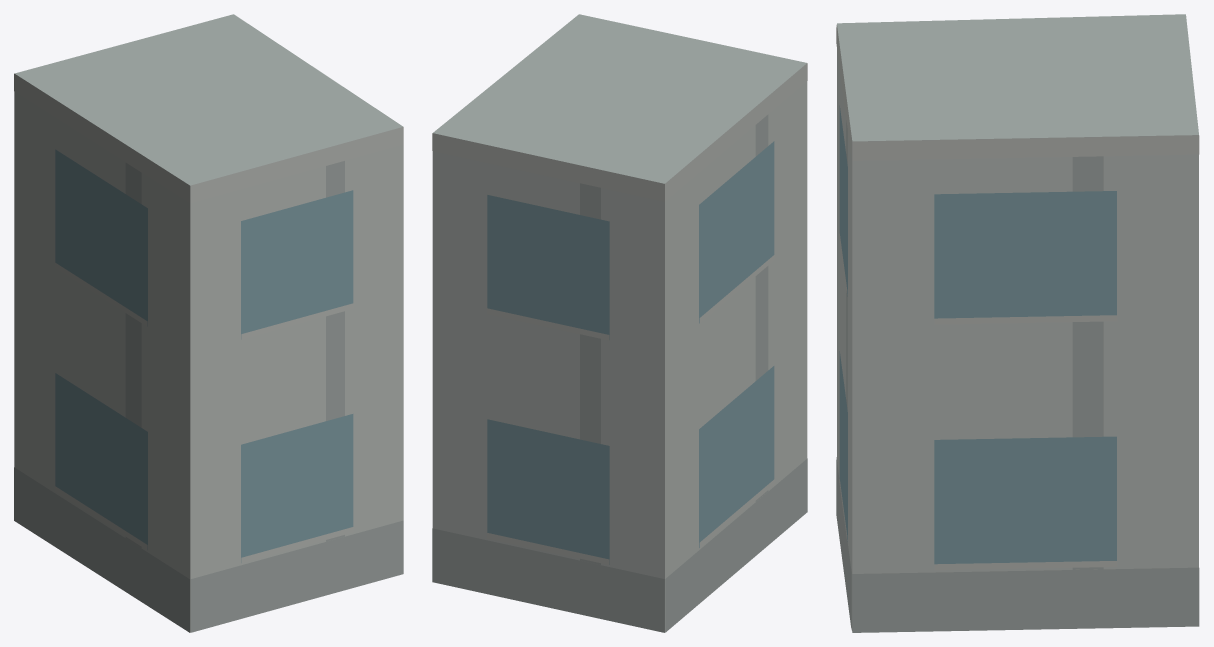
The model's file is survey-upis-32914746.glb.
3 renders of one model, left to right at view 1: azimuth 30°, elevation 25°; view 2: azimuth 150°, elevation 25°; view 3: azimuth 270°, elevation 25°, orthographic. The views are drawn at different scales.
Parts seen in each view (by area): view 1: survey-upis-32914746.tmp; view 2: survey-upis-32914746.tmp; view 3: survey-upis-32914746.tmp.
Boxes of the visible parts, left/top/right/bottom form: survey-upis-32914746.tmp: left=14, top=14, right=403, bottom=632; survey-upis-32914746.tmp: left=432, top=14, right=807, bottom=632; survey-upis-32914746.tmp: left=836, top=14, right=1199, bottom=632.
Size of the model in its own units: 3.4 by 6.1 by 4.09.
